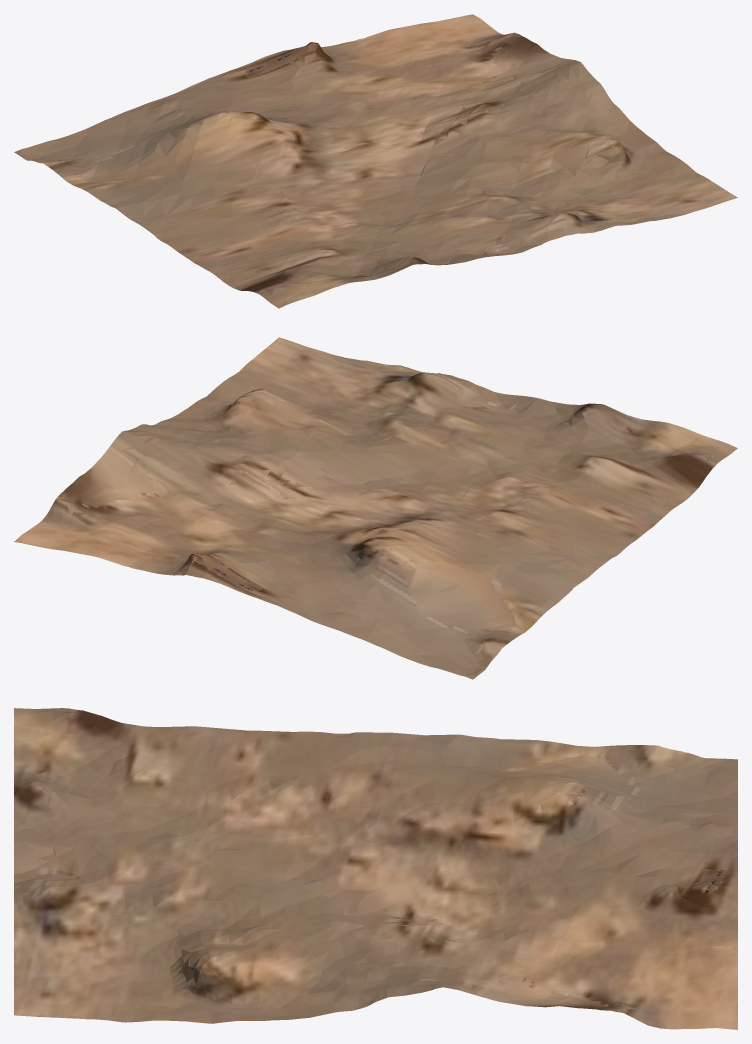
3 renders of one model, top to bottom at view 1: azimuth 30°, elevation 25°; view 2: azimuth 150°, elevation 25°; view 3: azimuth 270°, elevation 25°, orthographic. The views are drawn at different scales.
Size of the model in its own units: 1.04 by 0.1251 by 1.04.
2 materials, 2 textured.
